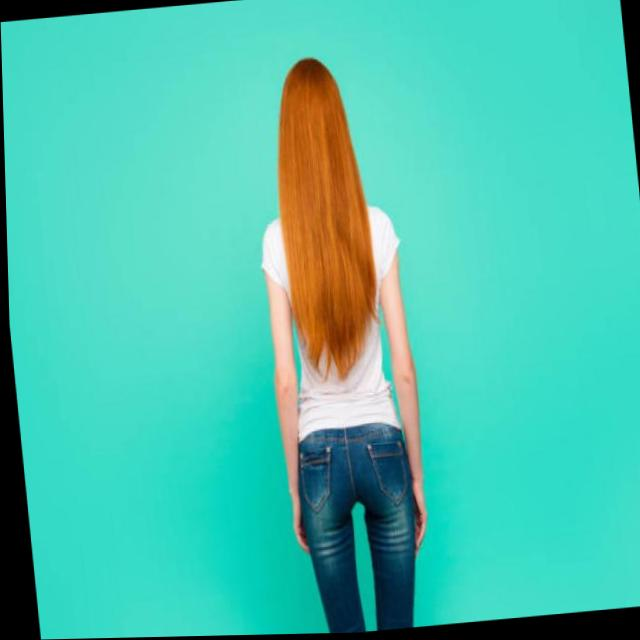no helmet: (252, 50, 376, 227)
